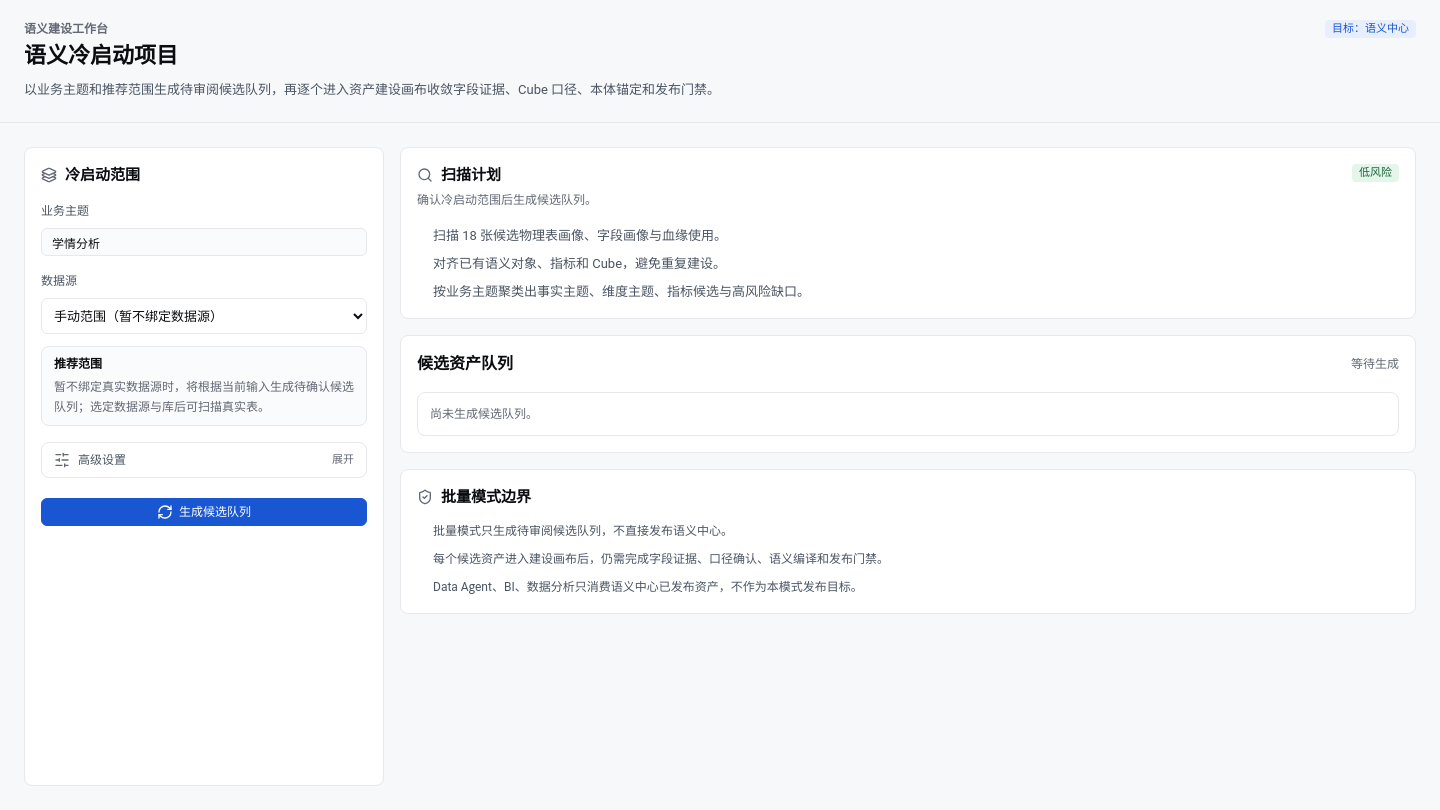
Scenario: BatchModelingWorkbench › 选定真实数据源但扫描回退到非真实候选时提示同步目录
Select "dw 测试源" in the dropdown labelled "数据源": (204,316) left=41, top=298, right=367, bottom=334
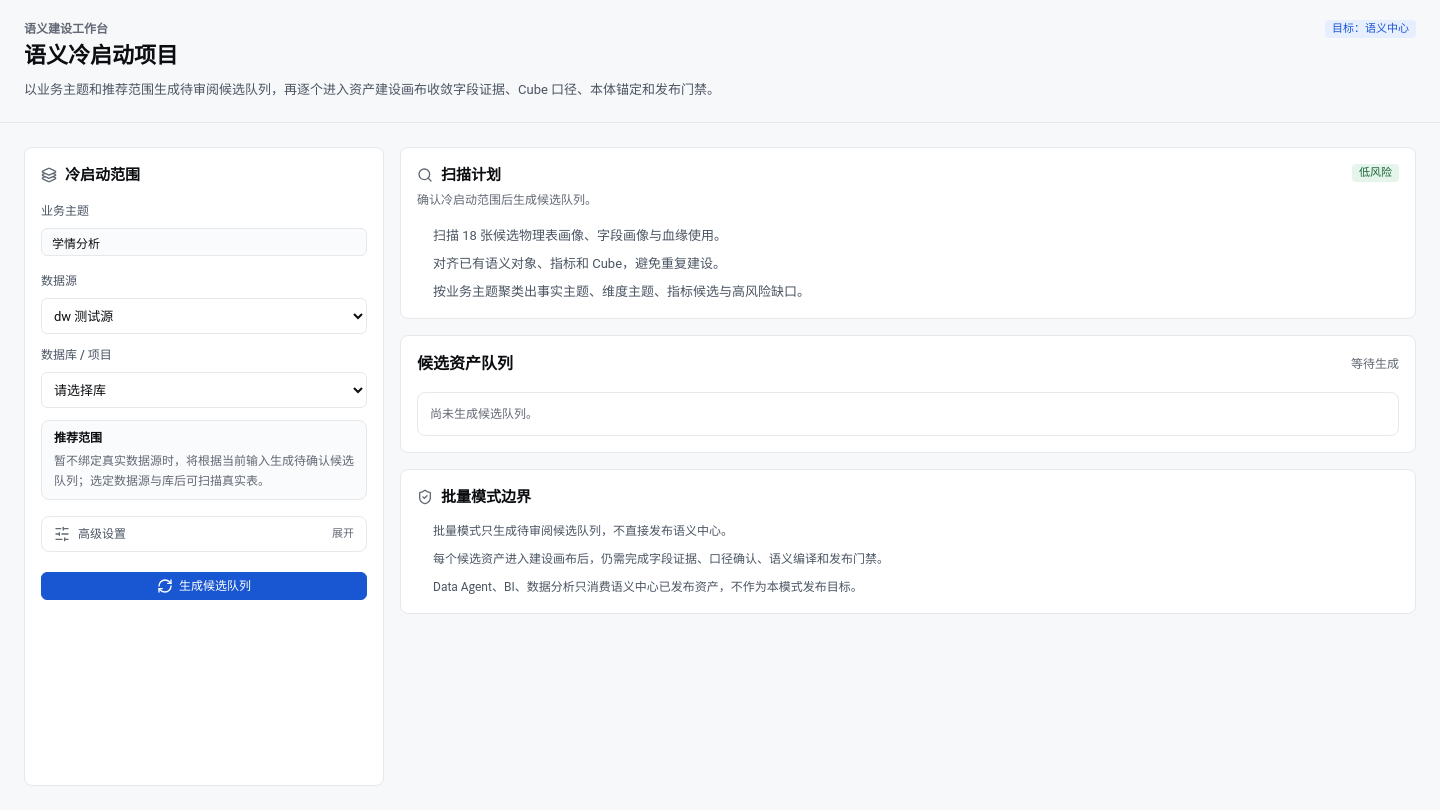
Select "dw" in the dropdown labelled "数据库 / 项目": (204,390) left=41, top=372, right=367, bottom=408
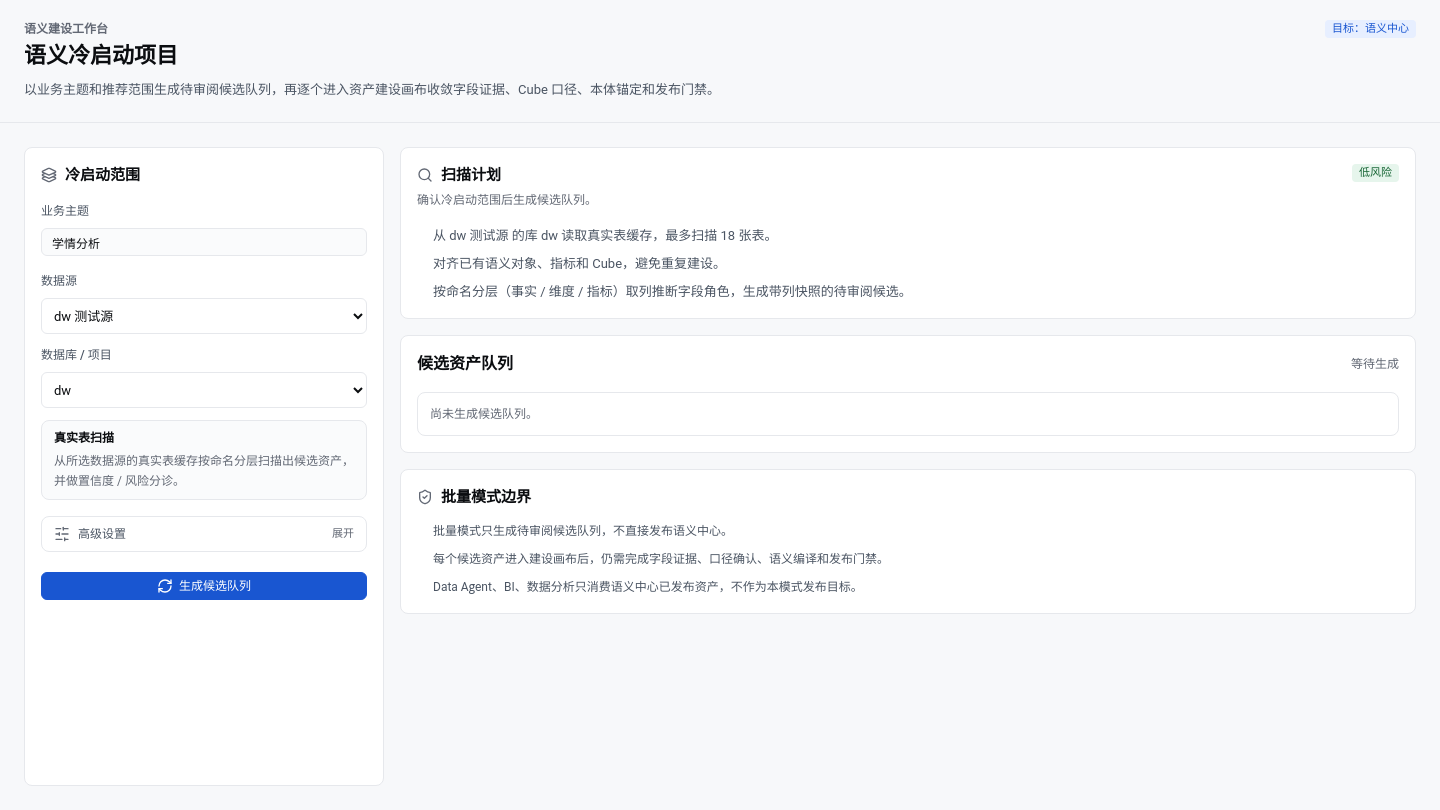
Click the button "生成候选队列": (204,586) left=41, top=572, right=367, bottom=600
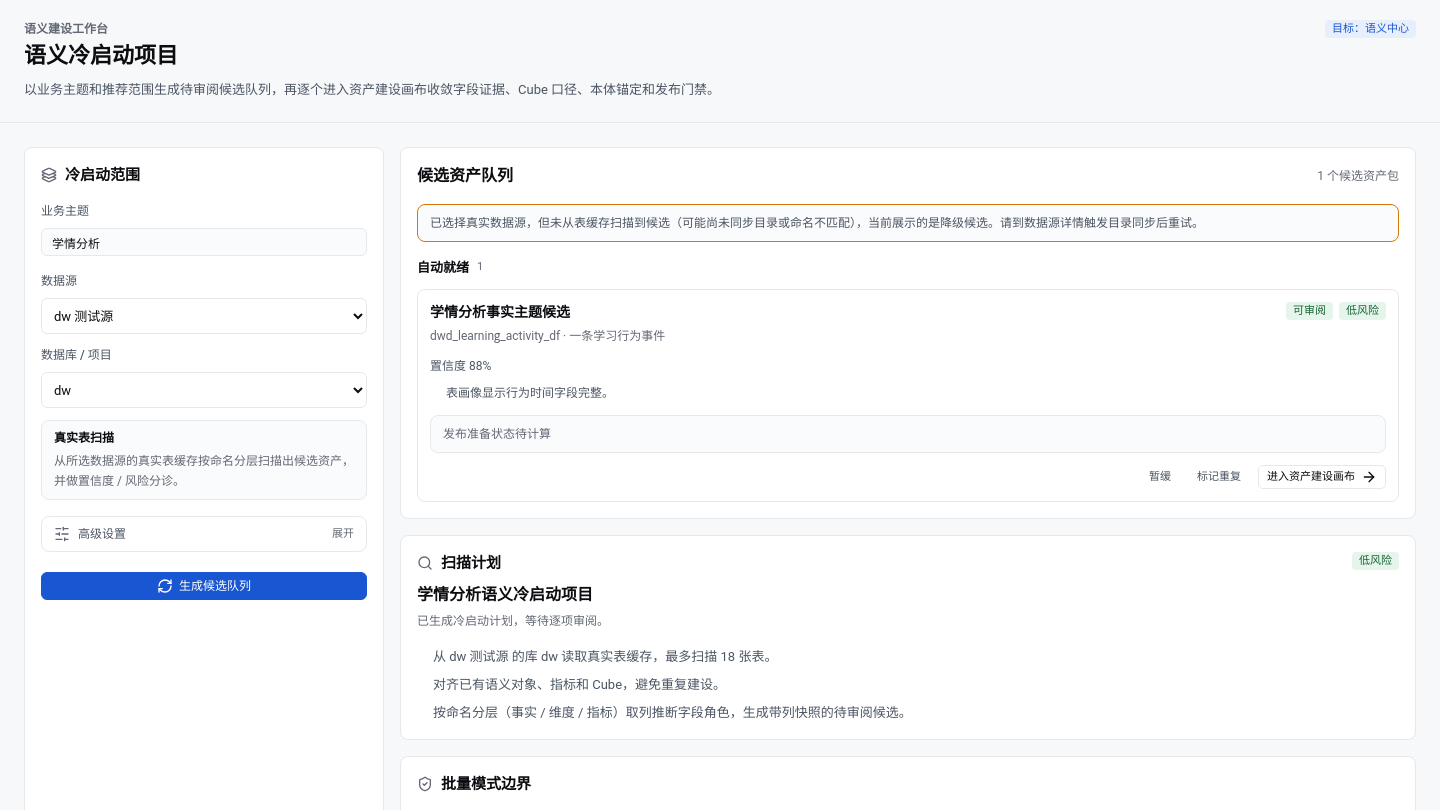
expect the text "未从表缓存扫描到候选" is shown: met, box left=430, top=216, right=1204, bottom=230
